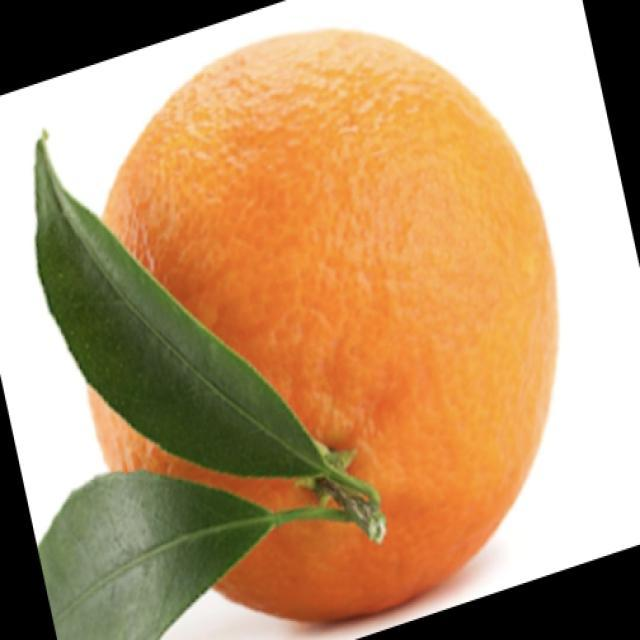matang: (104, 30, 556, 620), (89, 388, 314, 508)
